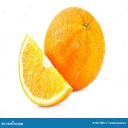orange: (17, 31, 75, 107), (43, 6, 105, 56), (73, 7, 106, 90)
